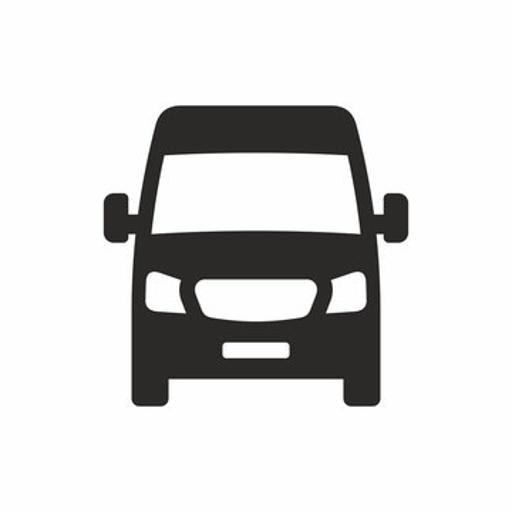van: (103, 105, 406, 403)
